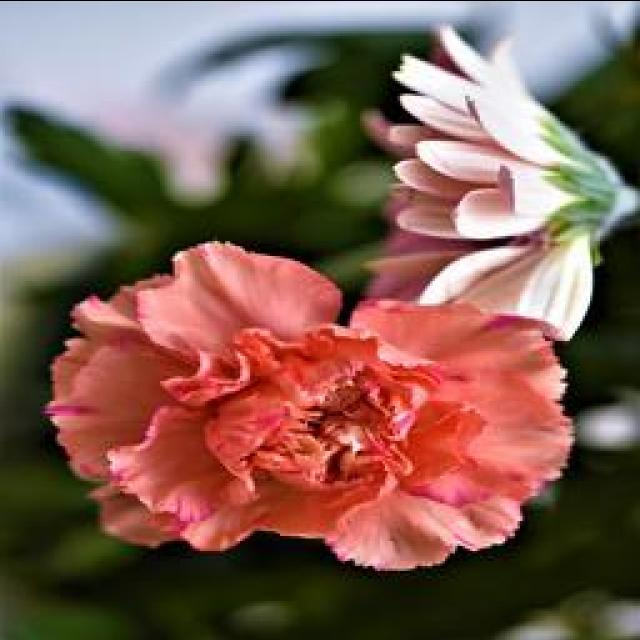carnation: (39, 243, 576, 582)
